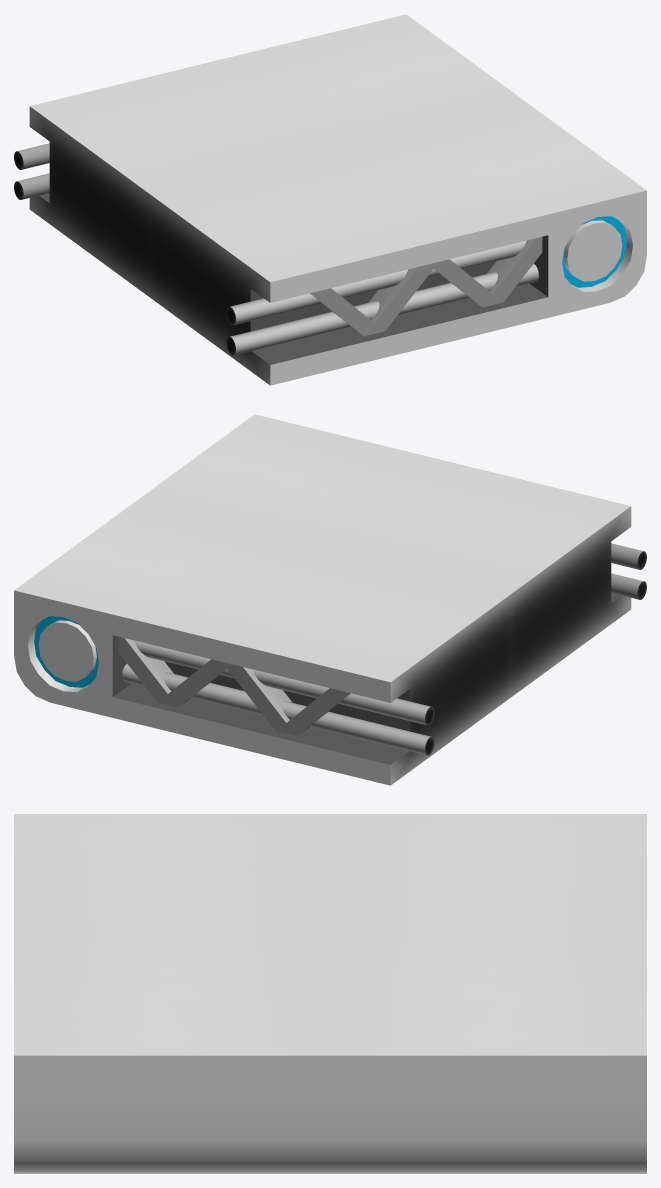
Rendered from Floor9.fbx.
3 renders of one model, top to bottom at view 1: azimuth 30°, elevation 25°; view 2: azimuth 150°, elevation 25°; view 3: azimuth 270°, elevation 25°, orthographic. The views are drawn at different scales.
Visible parts, largest first — view 1: pCube1, pCube9, pCylinder1, pCylinder2; view 2: pCube1, pCube9, pCylinder1, pCylinder2; view 3: pCube1.
Part boxes in pixels (<box>): pCube1: <box>29,14,646,385</box>; pCube9: <box>310,237,542,336</box>; pCylinder1: <box>14,173,538,355</box>; pCylinder2: <box>14,143,526,325</box>; pCube1: <box>14,414,631,785</box>; pCube9: <box>118,637,350,736</box>; pCylinder1: <box>122,573,646,755</box>; pCylinder2: <box>134,543,646,725</box>; pCube1: <box>14,814,646,1173</box>.
Size of the model in its own units: 12.72 by 3.13 by 13.2.
